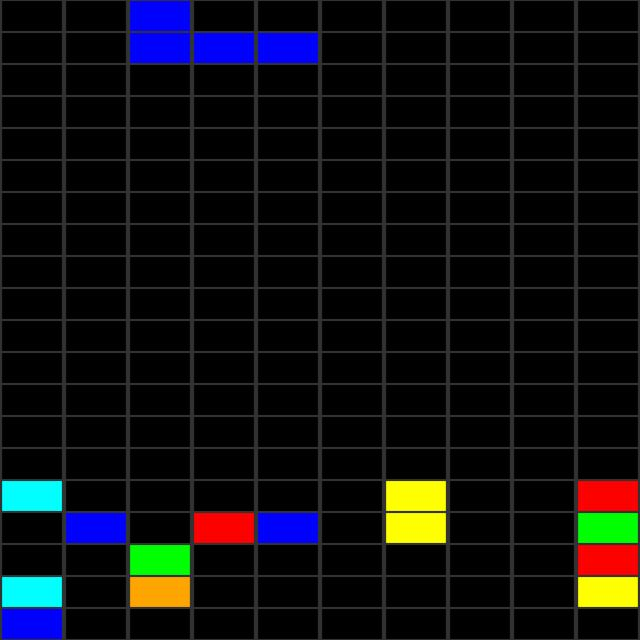Tetrimino_S: (130, 0, 318, 64)
